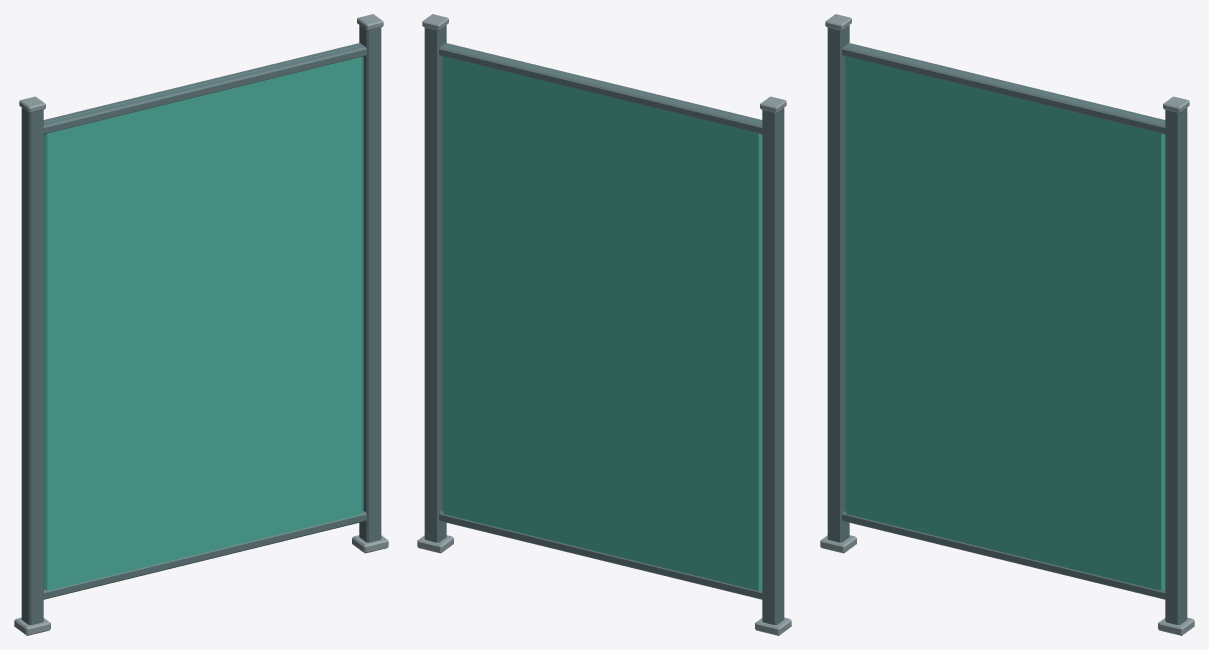
Rendered from Structure-PrivacyScreen.fbx.
3 views of the same model, side by side, from view 1: azimuth 30°, elevation 25°; view 2: azimuth 150°, elevation 25°; view 3: azimuth 330°, elevation 25° (orthographic).
Visible parts, largest first — view 1: Screen Panel, Post, Post.001, Panel Edge.001, Panel Edge; view 2: Screen Panel, Post, Post.001, Panel Edge.001, Panel Edge; view 3: Screen Panel, Post.001, Post, Panel Edge.001, Panel Edge.
Part boxes in pixels (x1,y1,x2,y2): Screen Panel: (43,46,363,590); Post: (21,108,43,624); Post.001: (359,25,381,542); Panel Edge.001: (43,43,366,134); Panel Edge: (43,511,366,599); Screen Panel: (442,46,762,590); Post: (762,108,784,624); Post.001: (424,25,446,542); Panel Edge.001: (439,43,762,134); Panel Edge: (439,511,762,599); Screen Panel: (845,46,1165,590); Post.001: (1165,108,1187,624); Post: (827,25,849,542); Panel Edge.001: (842,43,1165,134); Panel Edge: (842,511,1165,599).
Bounding box in the file's own units: 1.5 × 2.09 × 0.095.
